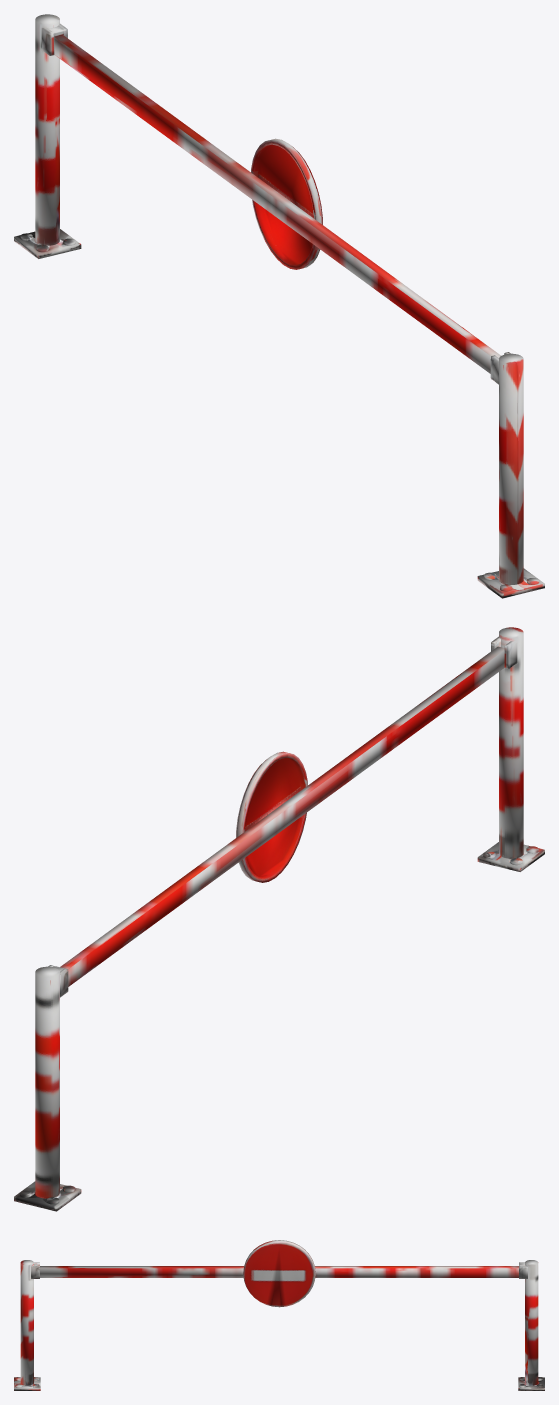
The model's file is Barriere interdit.fbx.
The picture shows the model from 3 angles, top to bottom: view 1: azimuth 30°, elevation 25°; view 2: azimuth 150°, elevation 25°; view 3: azimuth 270°, elevation 25°; orthographic projection. The views are drawn at different scales.
Visible parts, largest first — view 1: Mesh_0; view 2: Mesh_0; view 3: Mesh_0.
Boxes of the visible parts, x1,y1,x2,y2 form: Mesh_0: [14, 14, 544, 598]; Mesh_0: [14, 627, 544, 1211]; Mesh_0: [14, 1240, 544, 1390].
Bounding box in the file's own units: 10.1 × 60.81 × 200.
Materials: 1 (1 with a texture image).
